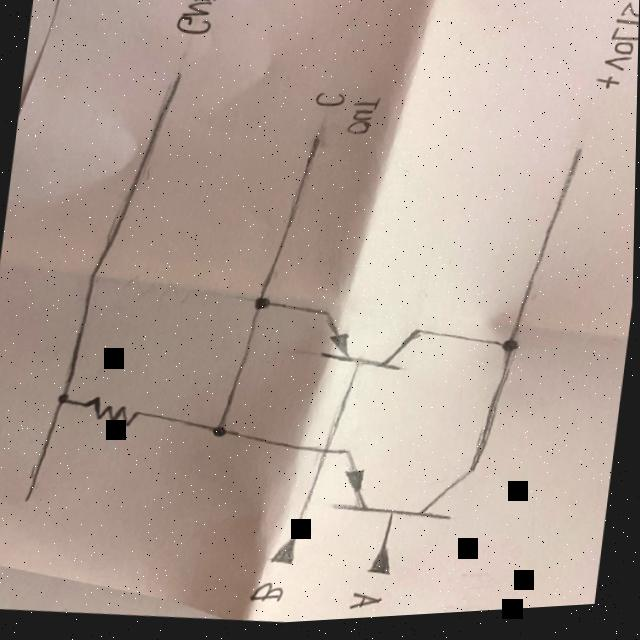crossover: (315, 444, 341, 465)
junction: (492, 337, 531, 367), (202, 419, 241, 449), (247, 292, 284, 320), (50, 386, 75, 414)
resistor: (79, 389, 148, 433)
terminal: (15, 467, 54, 512), (365, 543, 402, 584), (270, 533, 304, 573), (561, 147, 594, 183), (161, 63, 191, 99), (304, 135, 328, 168)
text: (598, 4, 639, 82), (171, 0, 221, 44), (345, 99, 384, 144), (250, 581, 290, 609), (347, 592, 389, 618), (310, 92, 349, 117), (592, 79, 623, 100)
transistor: (336, 444, 489, 547), (307, 303, 432, 389)
